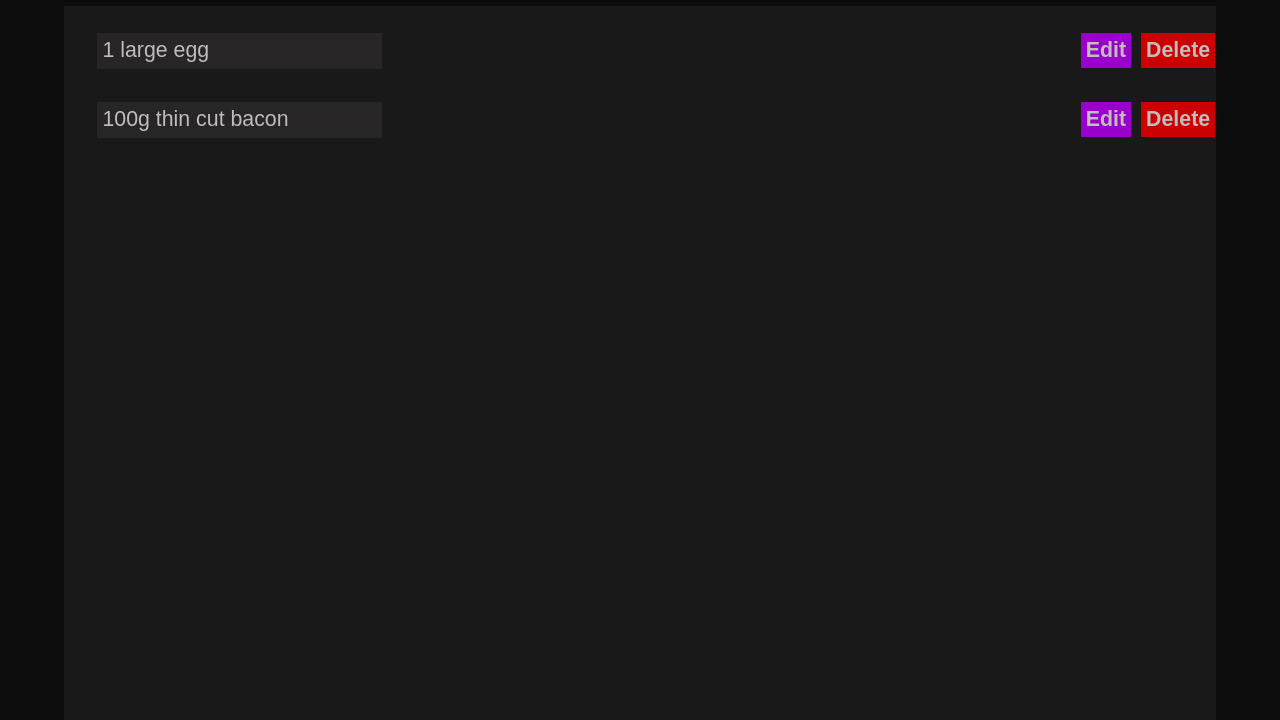
Test case: DynamicEditList › should render 'save' & 'cancel' for list element after edit and return to 'edit' & 'delete' after cancel
Expected: the 1st list item "Edit Delete" is shown, left=86, top=22, right=1226, bottom=80
Expected: the 2nd list item "Edit Delete" is shown, left=86, top=90, right=1226, bottom=149
Click the 1st button "Edit": coordinates (1106, 51) left=1081, top=33, right=1131, bottom=68
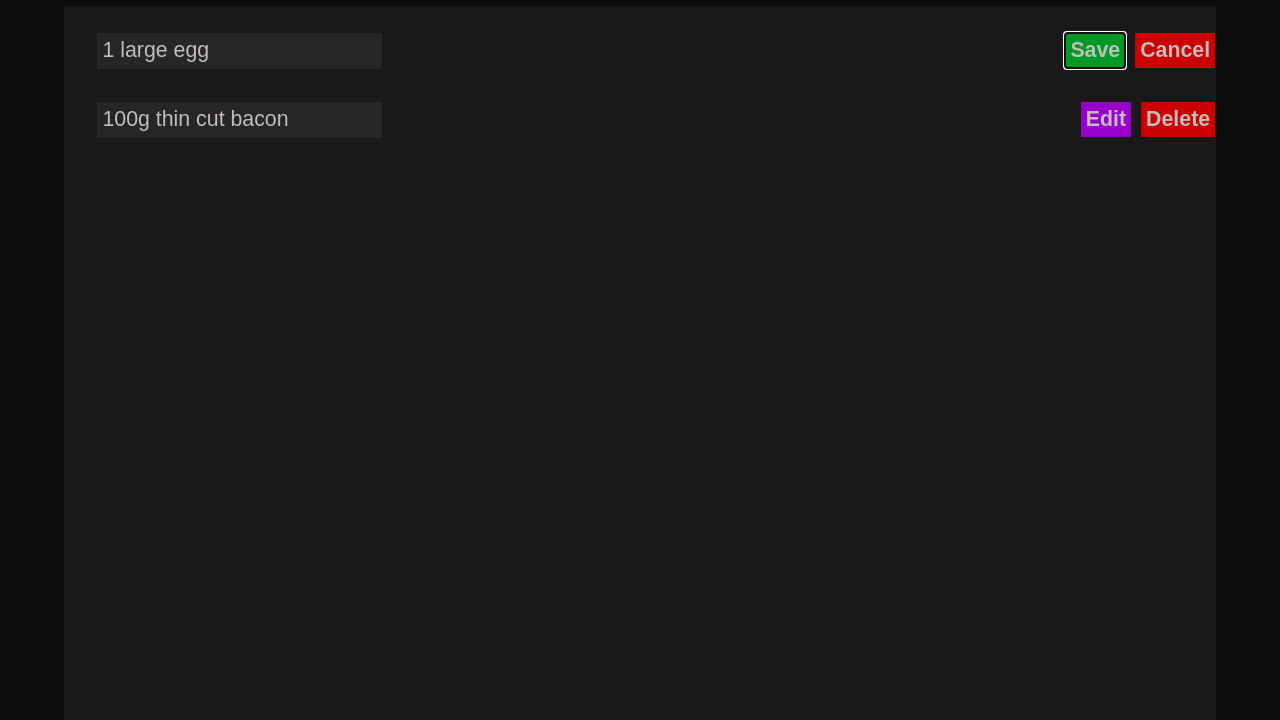
Expected: the list item "Edit Delete" is shown, left=86, top=90, right=1226, bottom=149
Result: the list item "Save Cancel" is shown at left=86, top=22, right=1226, bottom=80
Click the button "Cancel": coordinates (1175, 51) left=1135, top=33, right=1215, bottom=68
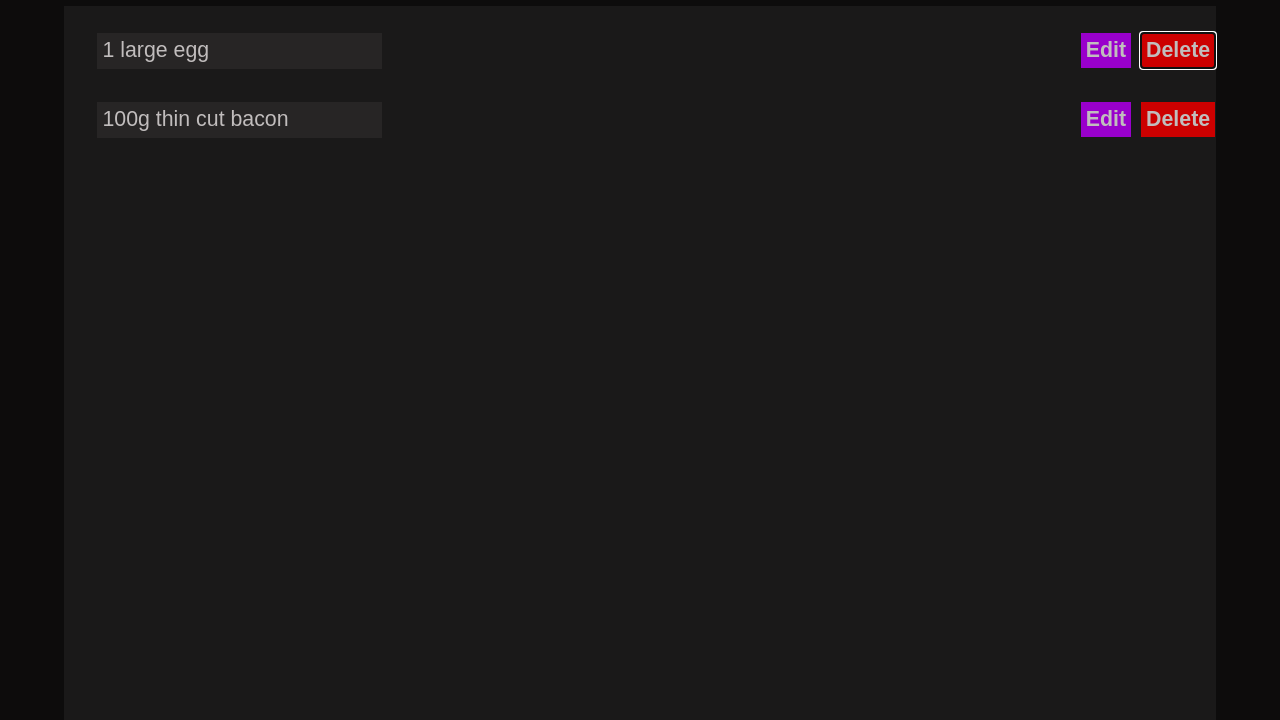
Expected: the 2nd list item "Edit Delete" is shown, left=86, top=90, right=1226, bottom=149
Result: the 1st list item "Edit Delete" is shown at left=86, top=22, right=1226, bottom=80
